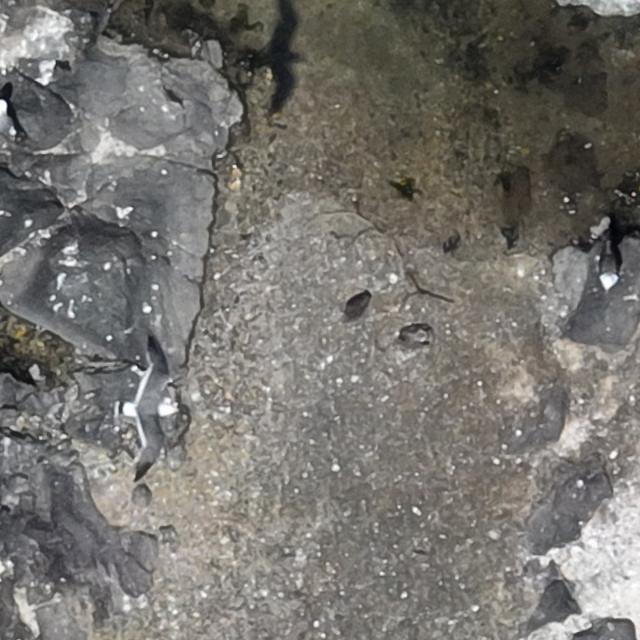F: (126, 346, 175, 456)
umineko: (598, 250, 617, 288)
